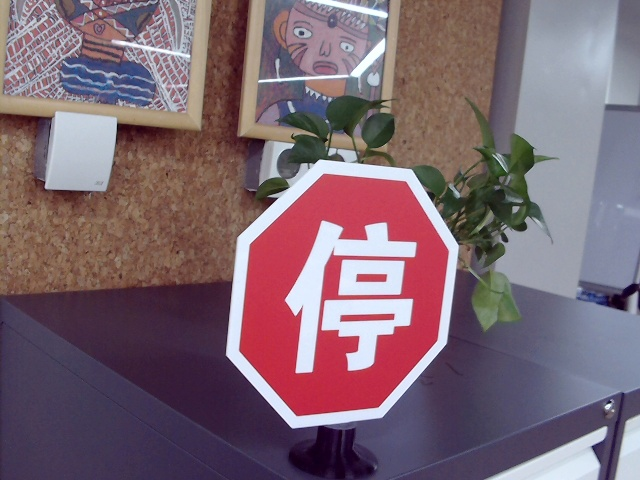stop: (287, 212, 411, 374)
